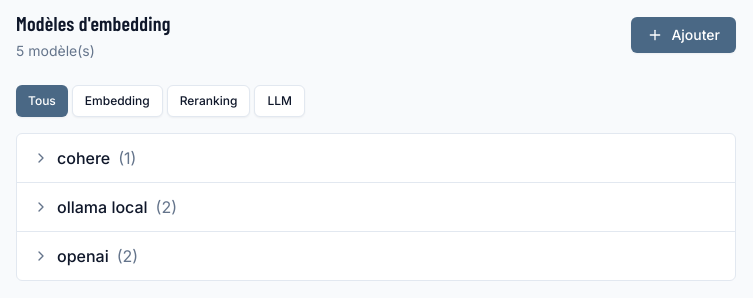
Test case: ModelsPage › filtre par type : LLM ne garde que les modèles kind=llm
Click the button "LLM" at coordinates (280, 101), box [254,85,305,117]
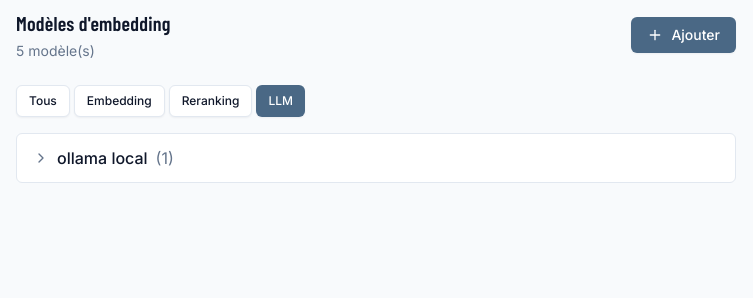
Click the button "ollama local (1)" at coordinates (102, 158), box [17,134,735,182]
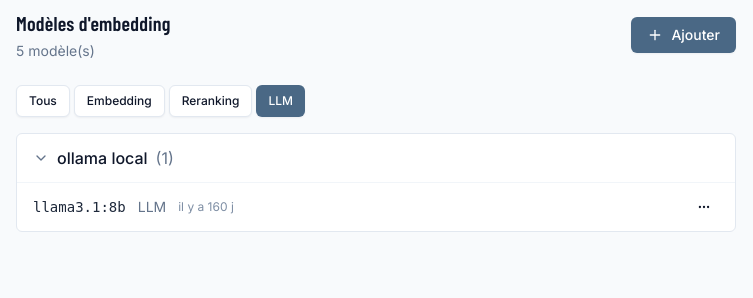
Now the text "llama3.1:8b" is shown, box [33,197,126,217]
